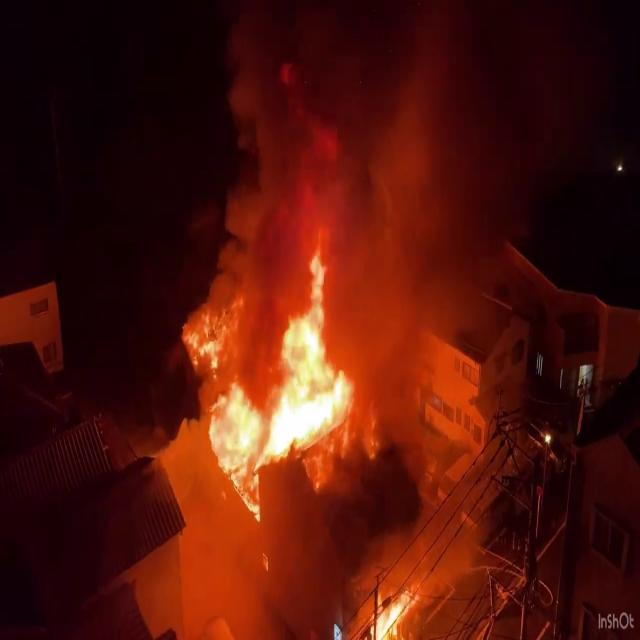Fire: (210, 222, 367, 524)
